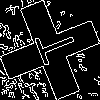T: (25, 25, 79, 70)
